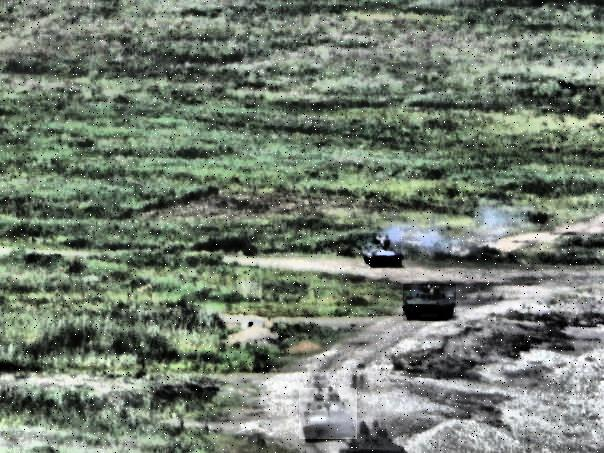military-vehicle: (299, 389, 357, 440), (404, 284, 457, 321), (364, 233, 401, 264)
